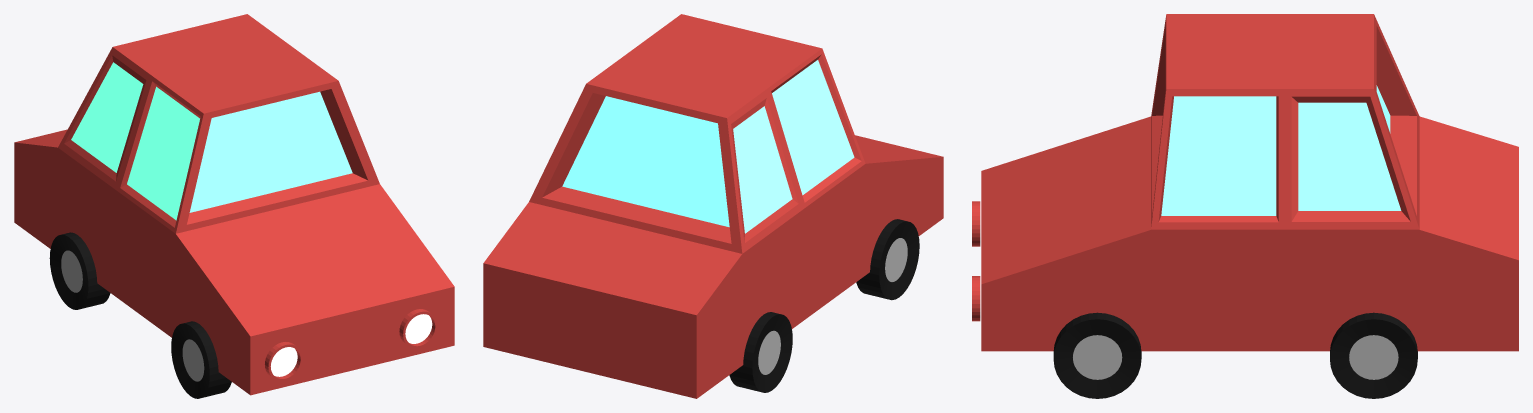
Rendered from car.glb.
3 views of the same model, side by side, from view 1: azimuth 30°, elevation 25°; view 2: azimuth 150°, elevation 25°; view 3: azimuth 270°, elevation 25° (orthographic). The views are drawn at different scales.
Visible parts, largest first — view 1: car; view 2: car; view 3: car.
Part boxes in pixels (x1,y1,x2,y2): car: (14, 14, 454, 398); car: (483, 14, 943, 398); car: (972, 14, 1518, 398).
Bounding box in the file's own units: 2.2 × 2.34 × 4.07.
